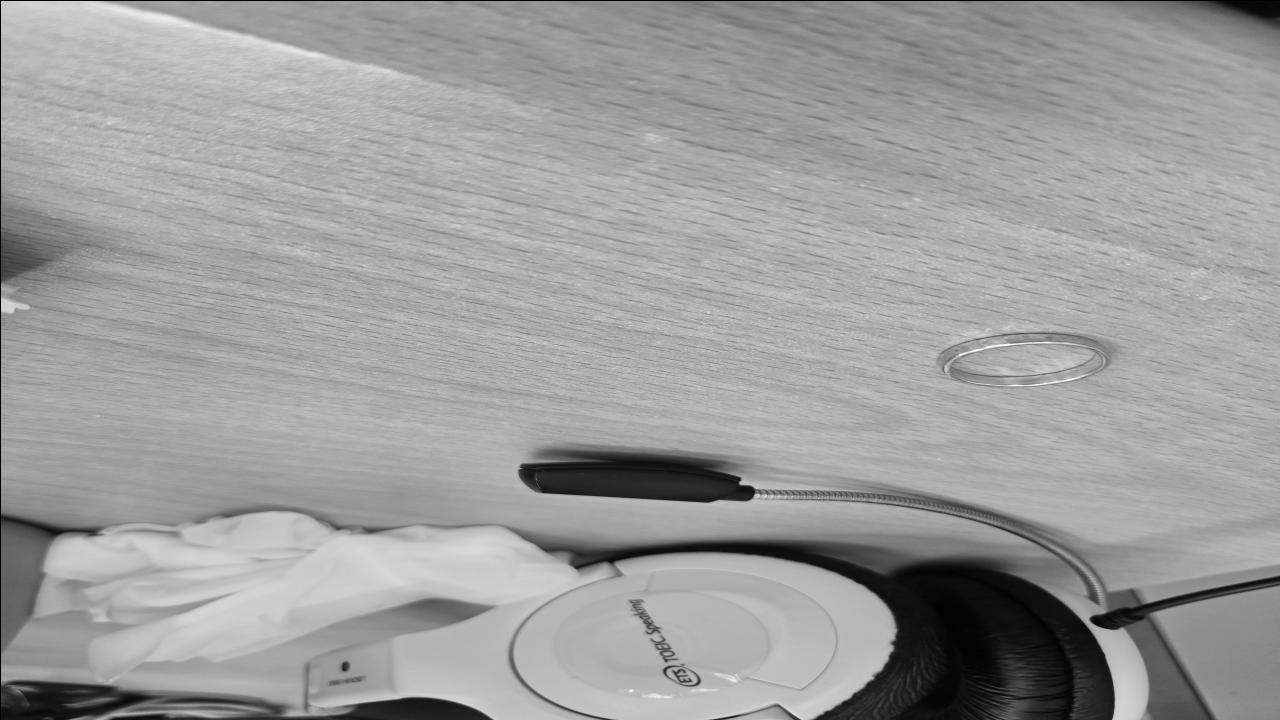ring: (930, 330, 1110, 388)
